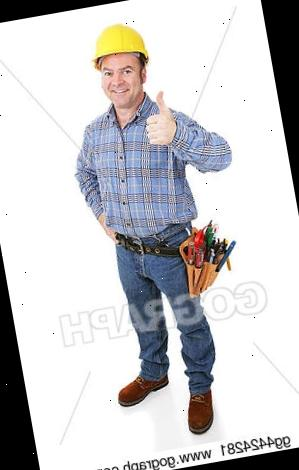helmet: (87, 20, 150, 72)
no_wear: (84, 102, 200, 243)
